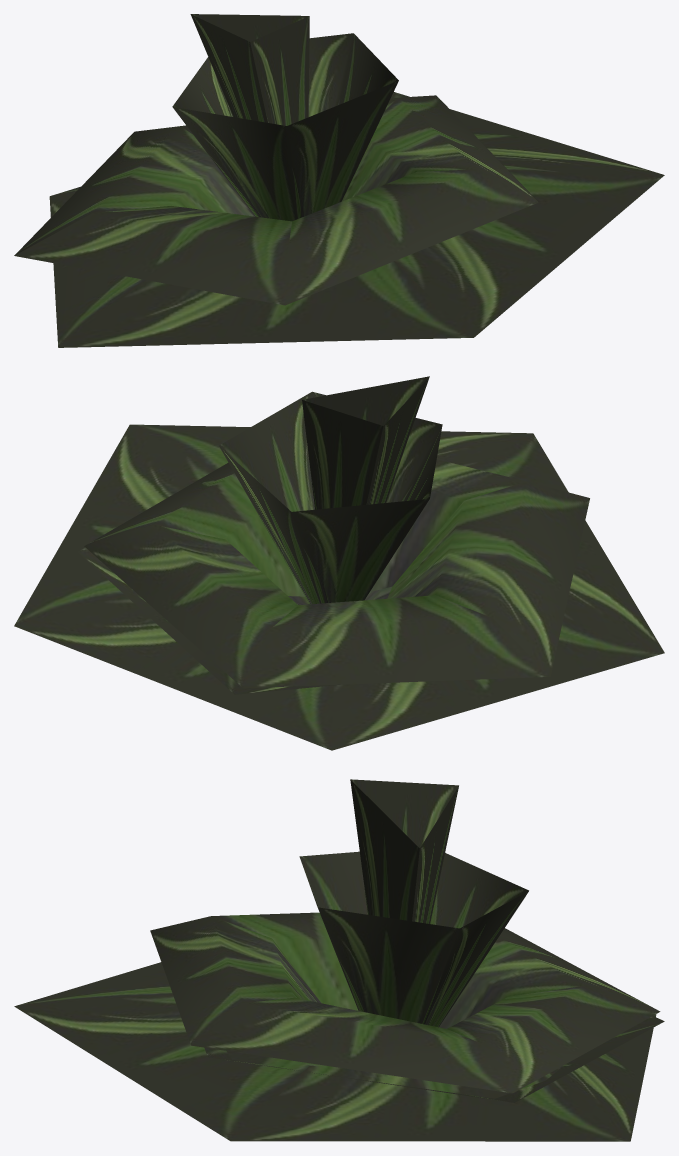
Rendered from jungle_plant_c.fbx.
3 views of the same model, one above another, from view 1: azimuth 30°, elevation 25°; view 2: azimuth 150°, elevation 25°; view 3: azimuth 270°, elevation 25° (orthographic). The views are drawn at different scales.
Parts seen in each view (by area): view 1: leaves_4, leaves_5, leaves_3, leaves_1; view 2: leaves_4, leaves_5, leaves_3, leaves_1, leaves_2; view 3: leaves_4, leaves_5, leaves_3, leaves_1, leaves_2.
Boxes of the visible parts, x1=… form: leaves_4: x1=14, y1=95, x2=538, y2=305; leaves_5: x1=49, y1=92, x2=664, y2=347; leaves_3: x1=172, y1=33, x2=398, y2=221; leaves_1: x1=190, y1=14, x2=309, y2=125; leaves_4: x1=84, y1=459, x2=589, y2=688; leaves_5: x1=14, y1=424, x2=664, y2=750; leaves_3: x1=219, y1=391, x2=442, y2=604; leaves_1: x1=302, y1=376, x2=429, y2=509; leaves_2: x1=78, y1=547, x2=340, y2=694; leaves_4: x1=150, y1=912, x2=660, y2=1093; leaves_5: x1=14, y1=962, x2=656, y2=1141; leaves_3: x1=299, y1=851, x2=528, y2=1027; leaves_1: x1=350, y1=779, x2=458, y2=923; leaves_2: x1=204, y1=1016, x2=664, y2=1102.
Bounding box in the file's own units: 1133 × 500 × 1090.
1 material, 1 textured.
